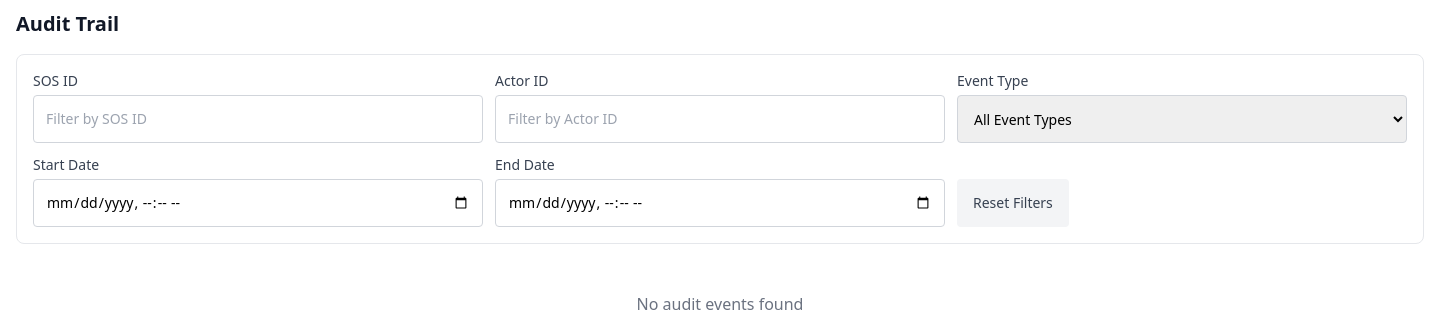
it: AuditTrailView › resets filters when reset button is clicked
The width and height of the screenshot is (1440, 332).
Expected: the text "No audit events found" is shown, [636,293,803,315]
// Set some filter values
Type "some-sos-id" into the field with test id "input-sos-id" at x=258, y=119, box [33,95,483,143]
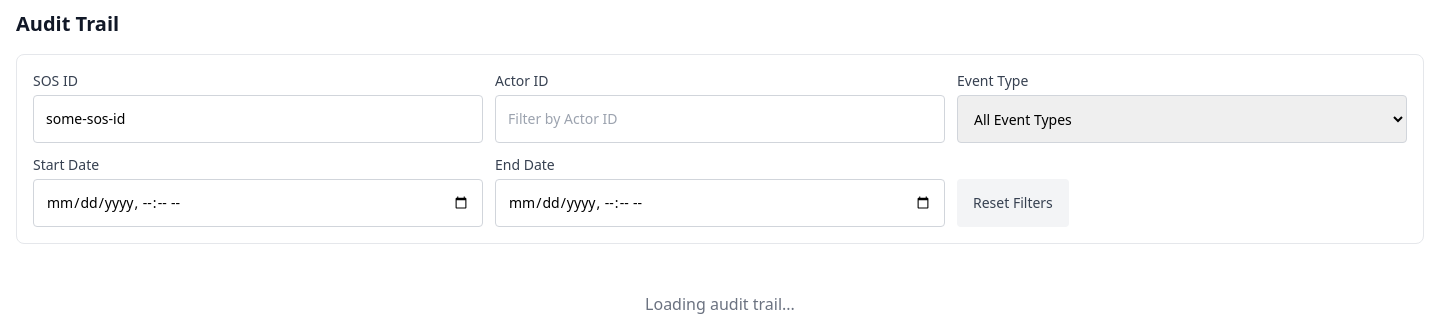
Type "some-actor" into the field with test id "input-actor-id" at x=720, y=119, box [495,95,945,143]
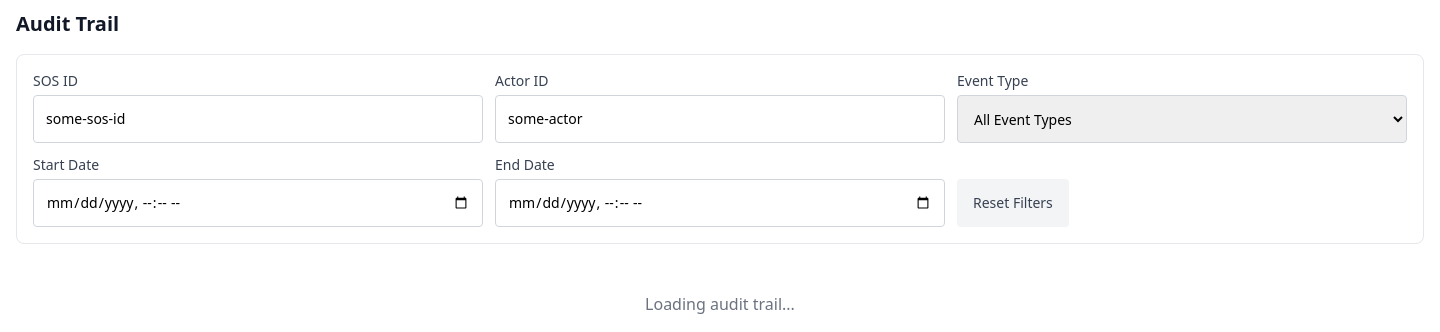
Click the button with test id "btn-reset-filters" at x=1013, y=203, box [957,179,1069,227]
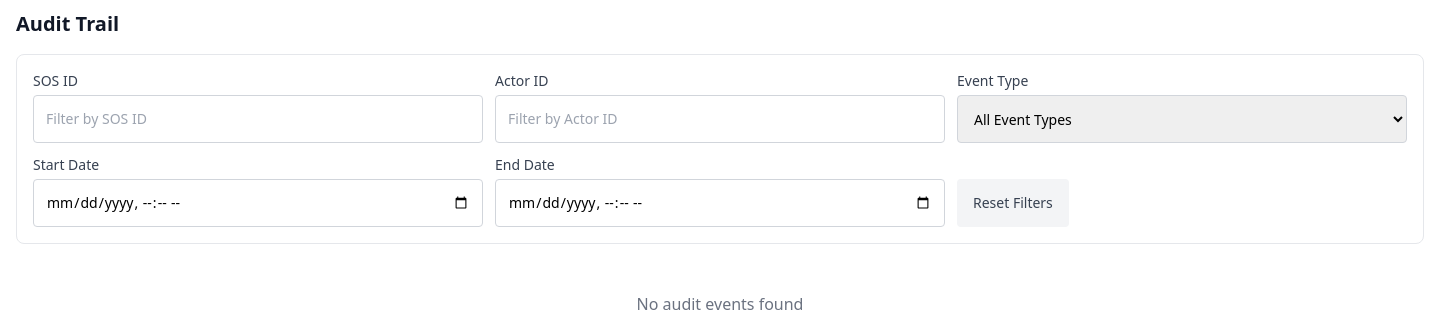
Result: the field with test id "input-sos-id" is empty at [33,95,483,143]
Result: the field with test id "input-actor-id" is empty at [495,95,945,143]
